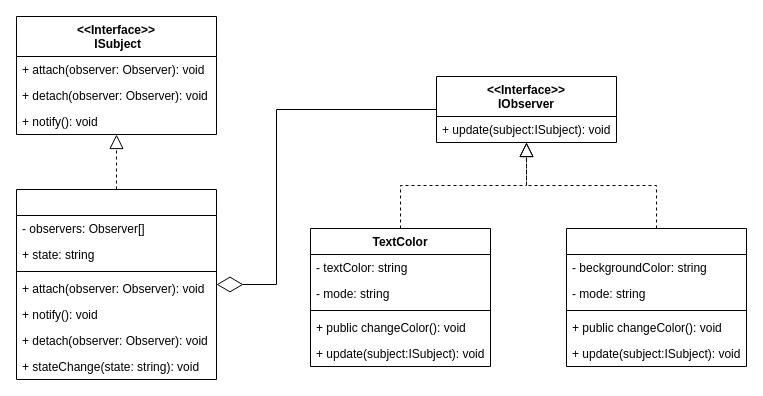
The diagram is 763 pixels wide and 396 high, and some of its shapes have lost their labels. The box of each missing label's shape, as (x1, y1, x2, y2) in pixels:
Background: (566, 228, 746, 366)
ConcreteSubject: (16, 188, 216, 380)
